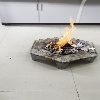fire: (46, 16, 76, 51)
